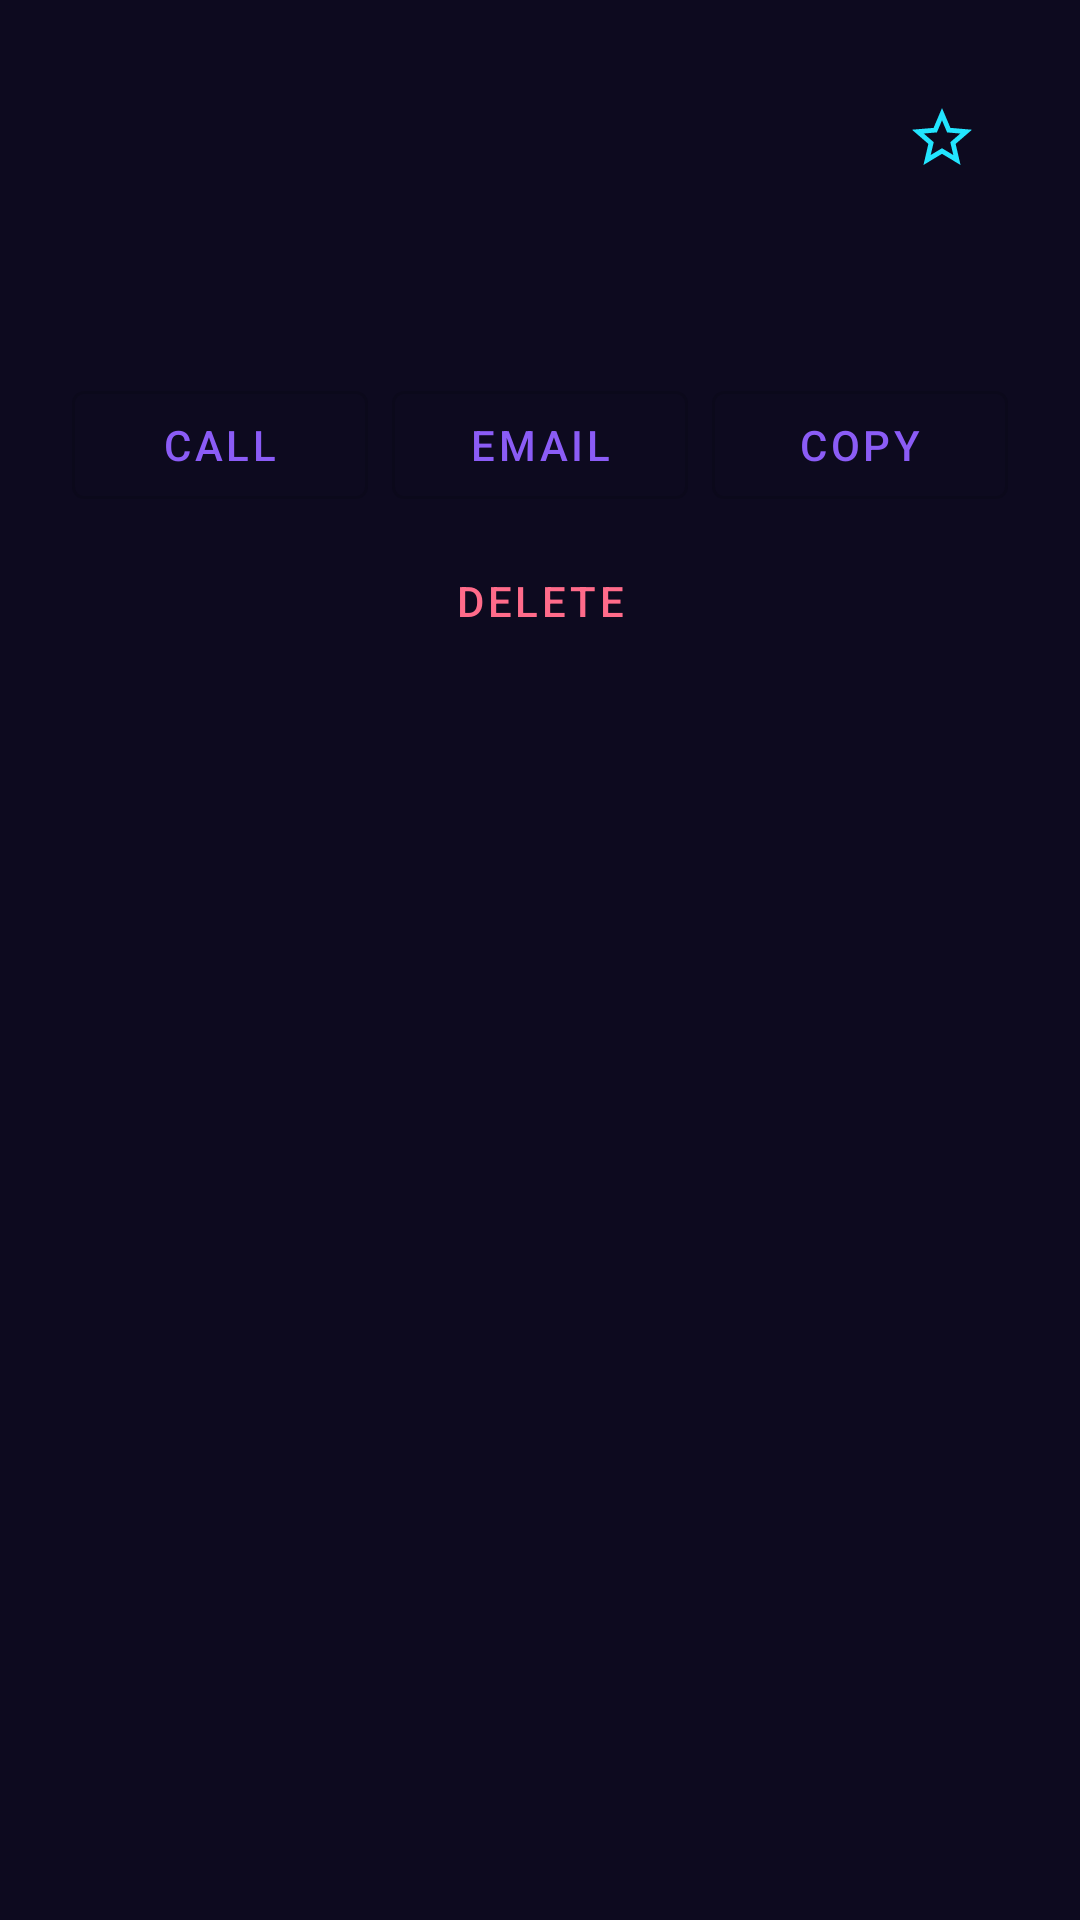

Named icons in this screenshot (1080w x 1920h) and their centers, (x=x, y=y):
star border: (x=942, y=136)
